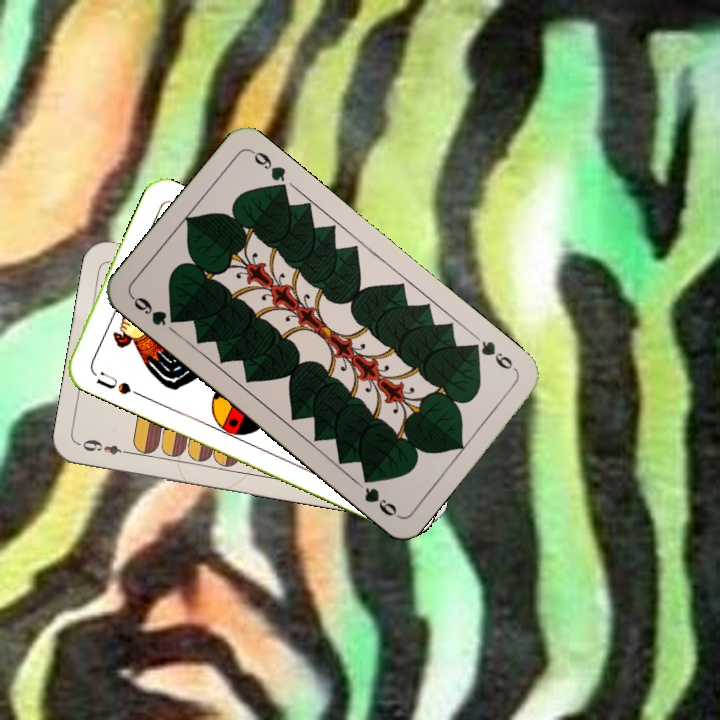E9: (76, 435, 135, 458)
G9: (465, 336, 520, 374), (127, 292, 183, 329)
SU: (92, 367, 144, 399)
